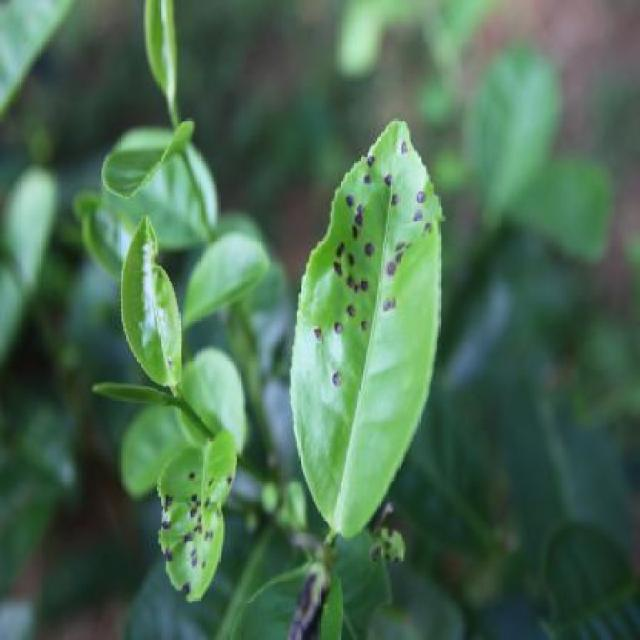Tea Mosquito bug infested leaf: (297, 111, 463, 534), (166, 424, 249, 598)
